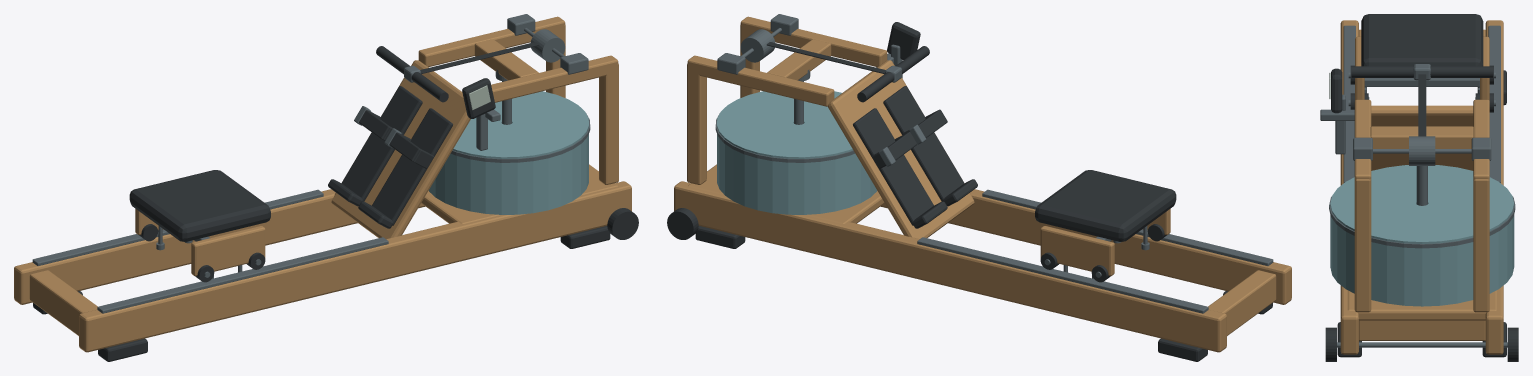
3 renders of one model, left to right at view 1: azimuth 30°, elevation 25°; view 2: azimuth 150°, elevation 25°; view 3: azimuth 270°, elevation 25°, orthographic. The views are drawn at different scales.
Visible parts, largest first — view 1: Frame rail L, Frame rail R, Tank hollow wall, Seat cushion, Tank opaque lid with shaft clearance, Inclined complete footboard, Foot pad L, Foot pad R, Guide track L, Seat side cheek -0.19, Frame cross member -1, Upper drive bearer -0.18 (+16 smaller); view 2: Frame rail R, Frame rail L, Tank hollow wall, Seat cushion, Tank opaque lid with shaft clearance, Inclined complete footboard, Foot pad R, Foot pad L, Upper drive bearer 0.18, Guide track R, Seat side cheek 0.19, Frame cross member -1 (+14 smaller); view 3: Tank opaque lid with shaft clearance, Tank hollow wall, Seat cushion, Inclined complete footboard, Frame cross member 0.96, Front upright -0.18, Tank support deck, Front upright 0.18, Upper cross bearing, Guide track R, Frame rail R, Frame rail L (+24 smaller).
Part boxes in pixels (<box>): Frame rail L: <box>79,181,631,352</box>; Frame rail R: <box>14,189,425,304</box>; Tank hollow wall: <box>429,134,588,212</box>; Seat cushion: <box>129,170,270,241</box>; Tank opaque lid with shaft clearance: <box>453,91,588,158</box>; Inclined complete footboard: <box>331,60,470,238</box>; Foot pad L: <box>372,108,452,225</box>; Foot pad R: <box>341,86,422,201</box>; Guide track L: <box>97,237,388,313</box>; Seat side cheek -0.19: <box>191,226,265,276</box>; Frame cross member -1: <box>29,270,97,335</box>; Upper drive bearer -0.18: <box>491,55,618,102</box>; Frame rail R: <box>674,181,1226,352</box>; Frame rail L: <box>880,189,1291,304</box>; Tank hollow wall: <box>717,134,876,212</box>; Seat cushion: <box>1035,170,1176,241</box>; Tank opaque lid with shaft clearance: <box>717,91,852,158</box>; Inclined complete footboard: <box>828,60,974,238</box>; Foot pad R: <box>853,108,933,225</box>; Foot pad L: <box>883,86,964,201</box>; Upper drive bearer 0.18: <box>687,55,834,106</box>; Guide track R: <box>917,237,1208,313</box>; Seat side cheek 0.19: <box>1040,226,1114,276</box>; Frame cross member -1: <box>1208,270,1276,335</box>; Tank opaque lid with shaft clearance: <box>1330,165,1514,243</box>; Tank hollow wall: <box>1330,215,1514,303</box>; Seat cushion: <box>1361,14,1483,66</box>; Inclined complete footboard: <box>1371,105,1473,170</box>; Frame cross member 0.96: <box>1359,320,1485,340</box>; Front upright -0.18: <box>1354,179,1371,312</box>; Tank support deck: <box>1347,290,1496,320</box>; Front upright 0.18: <box>1473,179,1489,312</box>; Upper cross bearing: <box>1370,126,1473,148</box>; Guide track R: <box>1488,25,1500,182</box>; Frame rail R: <box>1485,20,1503,354</box>; Frame rail L: <box>1340,20,1358,354</box>.
Size of the model in its own units: 2.14 by 0.7201 by 0.603.
